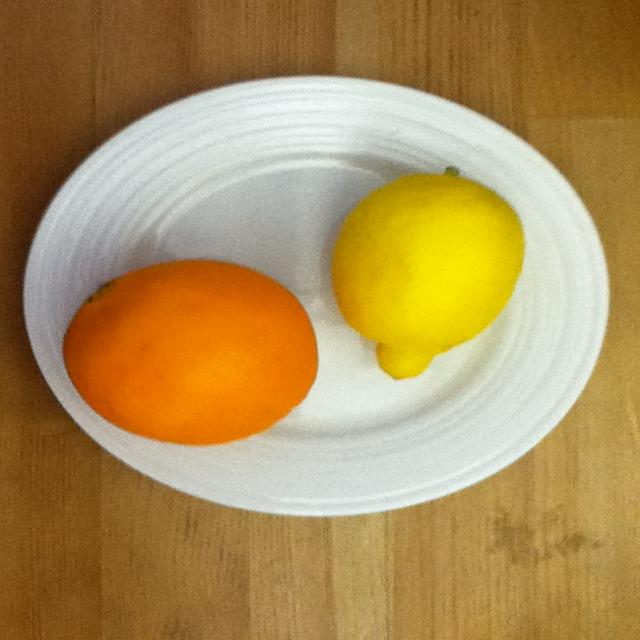lemon: (334, 160, 549, 409)
orange: (42, 252, 316, 473)
